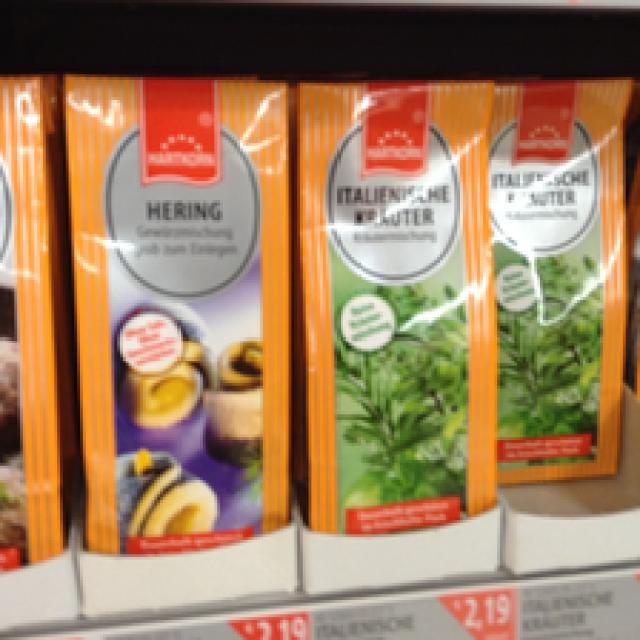groceries: (60, 66, 286, 554), (294, 77, 494, 537)
